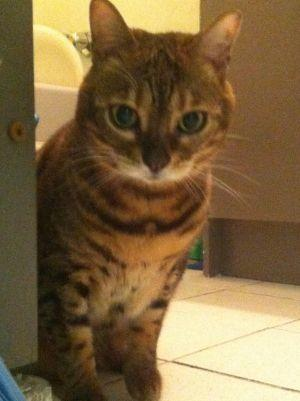bengal: (76, 1, 242, 196)
